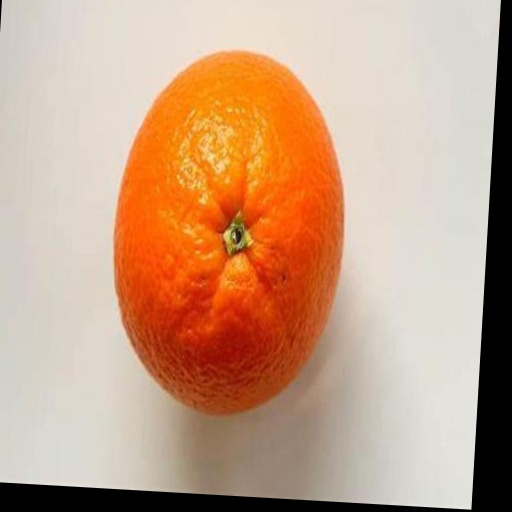fruit: (115, 52, 343, 413)
